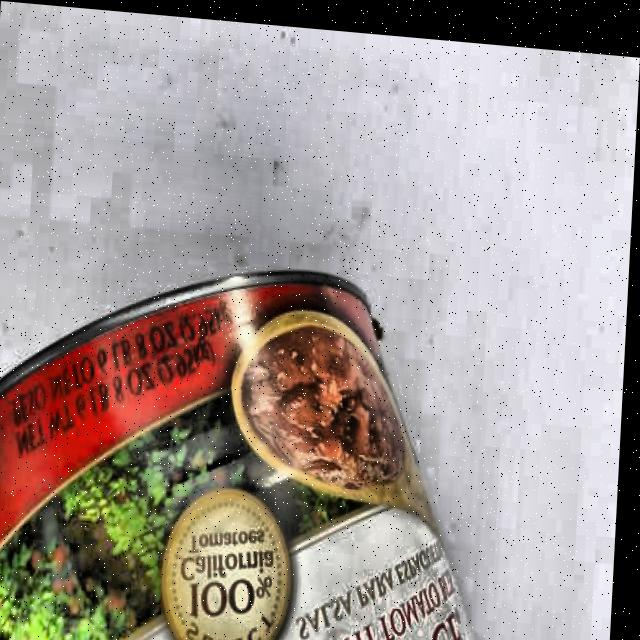metal: (0, 241, 506, 640)
